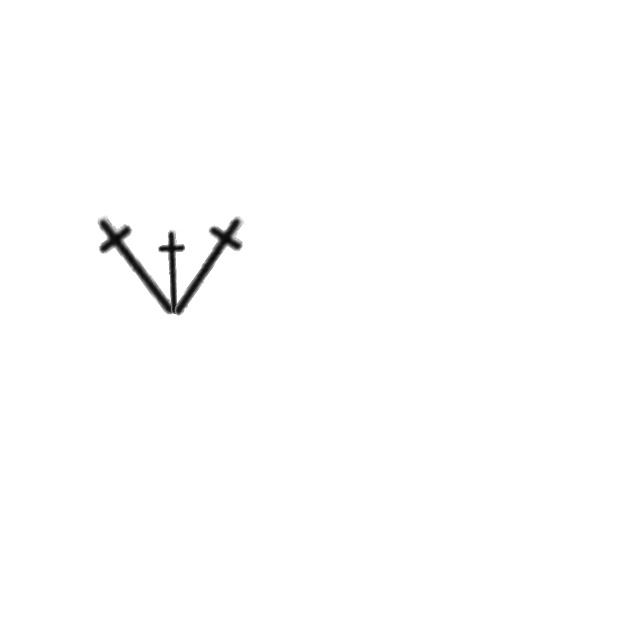enseble_chain: (72, 194, 204, 337), (146, 198, 272, 336), (148, 229, 200, 316)
